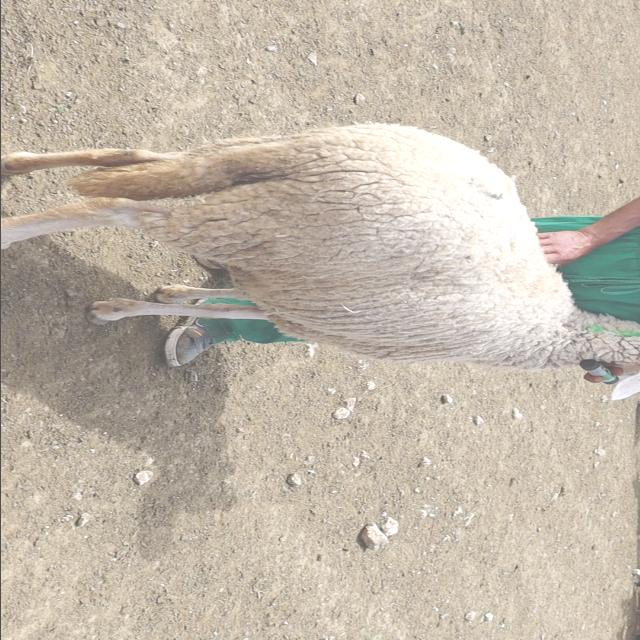Score_4: (1, 123, 640, 400)
